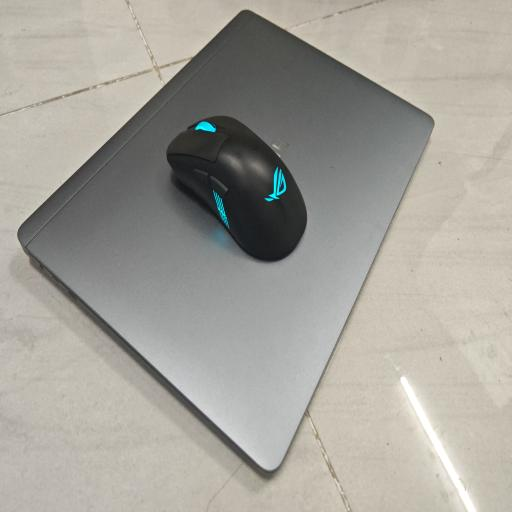laptop: (18, 11, 434, 470)
mouse: (167, 116, 307, 260)
